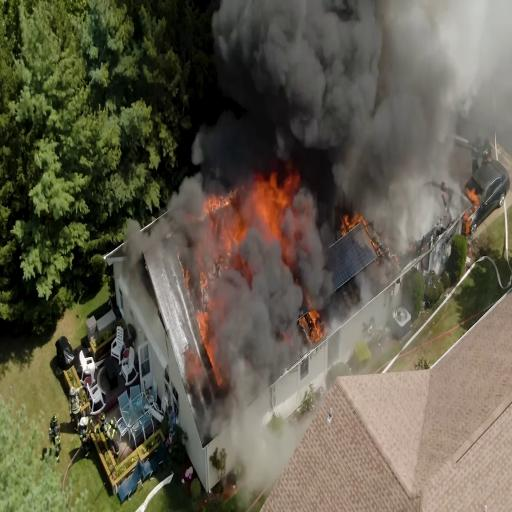fire: (200, 171, 292, 251)
smoke: (345, 0, 455, 221), (218, 0, 381, 147)
